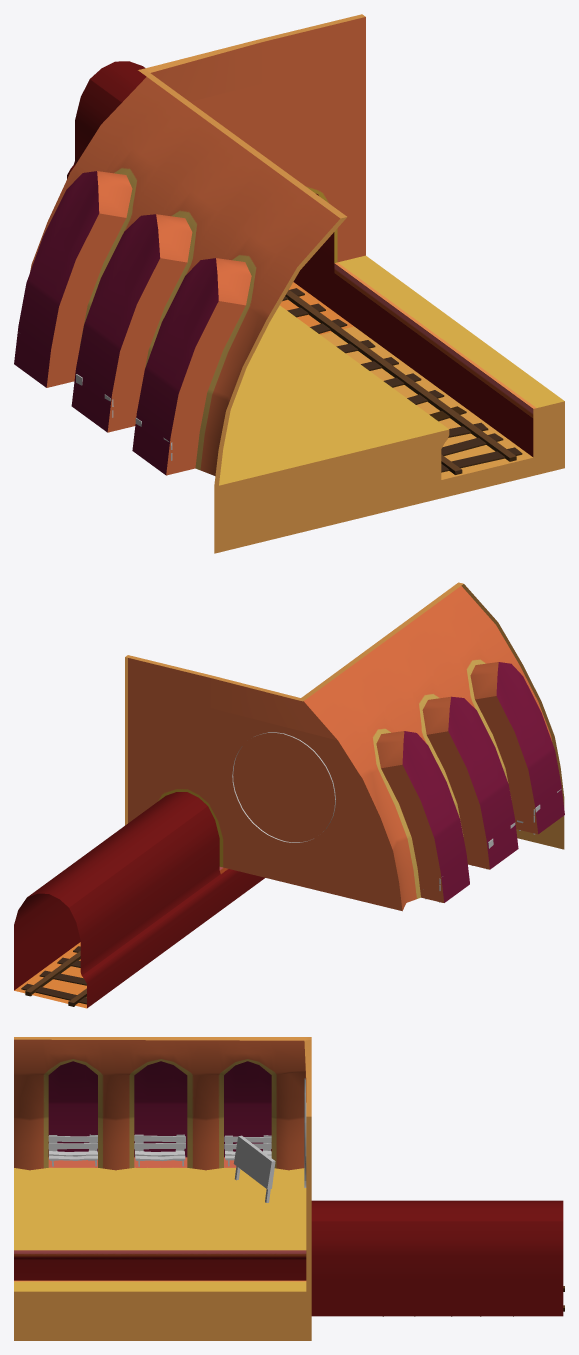
The model's file is station 1.fbx.
3 renders of one model, top to bottom at view 1: azimuth 30°, elevation 25°; view 2: azimuth 150°, elevation 25°; view 3: azimuth 270°, elevation 25°, orthographic. The views are drawn at different scales.
Parts seen in each view (by area): view 1: env_1, track_1; view 2: env_1, track_1; view 3: env_1, sign, polySurface9, polySurface12, polySurface11.
Boxes of the visible parts, x1,y1,x2,y2 form: env_1: (14,14,564,553); track_1: (282,288,522,474); env_1: (14,582,564,1008); track_1: (21,946,86,1006); env_1: (14,1037,563,1340); sign: (233,1135,275,1202); polySurface9: (134,1134,185,1166); polySurface12: (48,1134,97,1166); polySurface11: (224,1135,271,1166).
Bounding box in the file's own units: 21.51 × 16.74 × 37.27.
